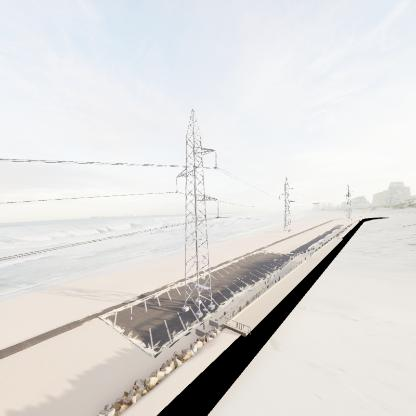tower: (169, 100, 224, 320)
